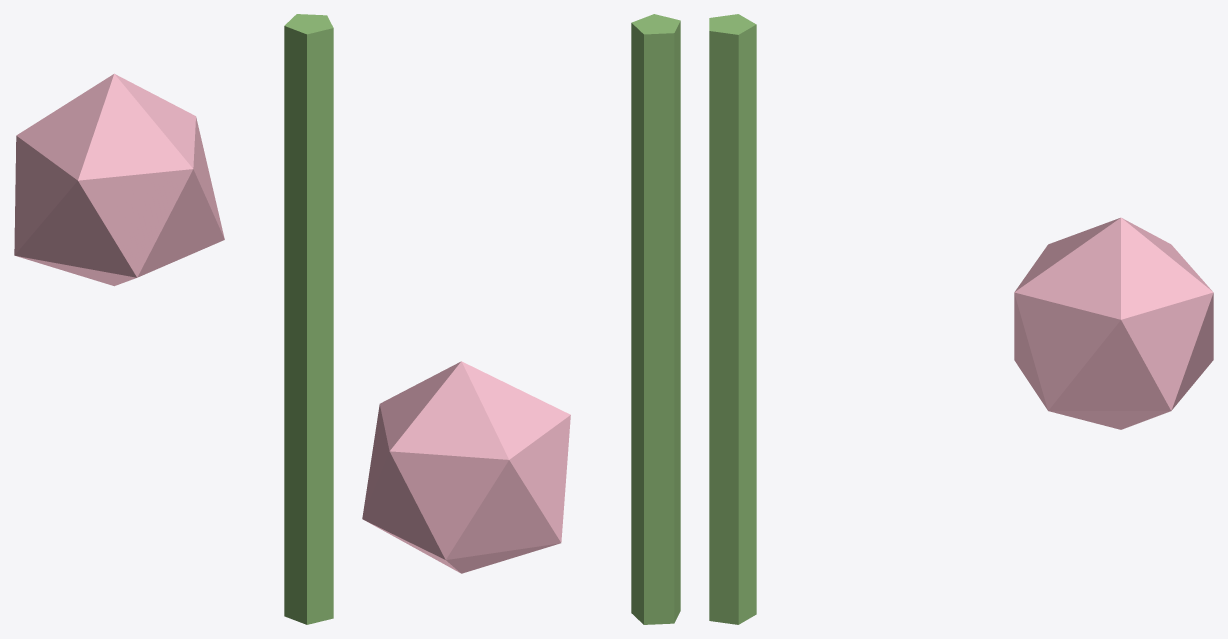
Rendered from flower.fbx.
3 views of the same model, side by side, from view 1: azimuth 30°, elevation 25°; view 2: azimuth 150°, elevation 25°; view 3: azimuth 270°, elevation 25° (orthographic).
Parts seen in each view (by area): view 1: Head, Stem; view 2: Head, Stem; view 3: Head, Stem.
Boxes of the visible parts, box(x1,y1,x2,y2) form: Head: box(14, 73, 224, 286); Stem: box(284, 14, 333, 624); Head: box(362, 361, 570, 573); Stem: box(631, 14, 680, 624); Head: box(1014, 217, 1213, 429); Stem: box(709, 14, 756, 624).
Size of the model in its own units: 16.1 by 50 by 38.72.
